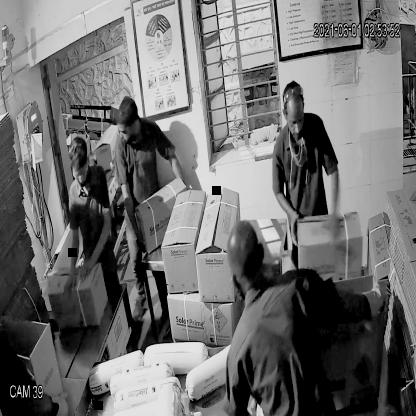goggles: (70, 162, 92, 186)
no_goggles: (283, 108, 307, 133)
